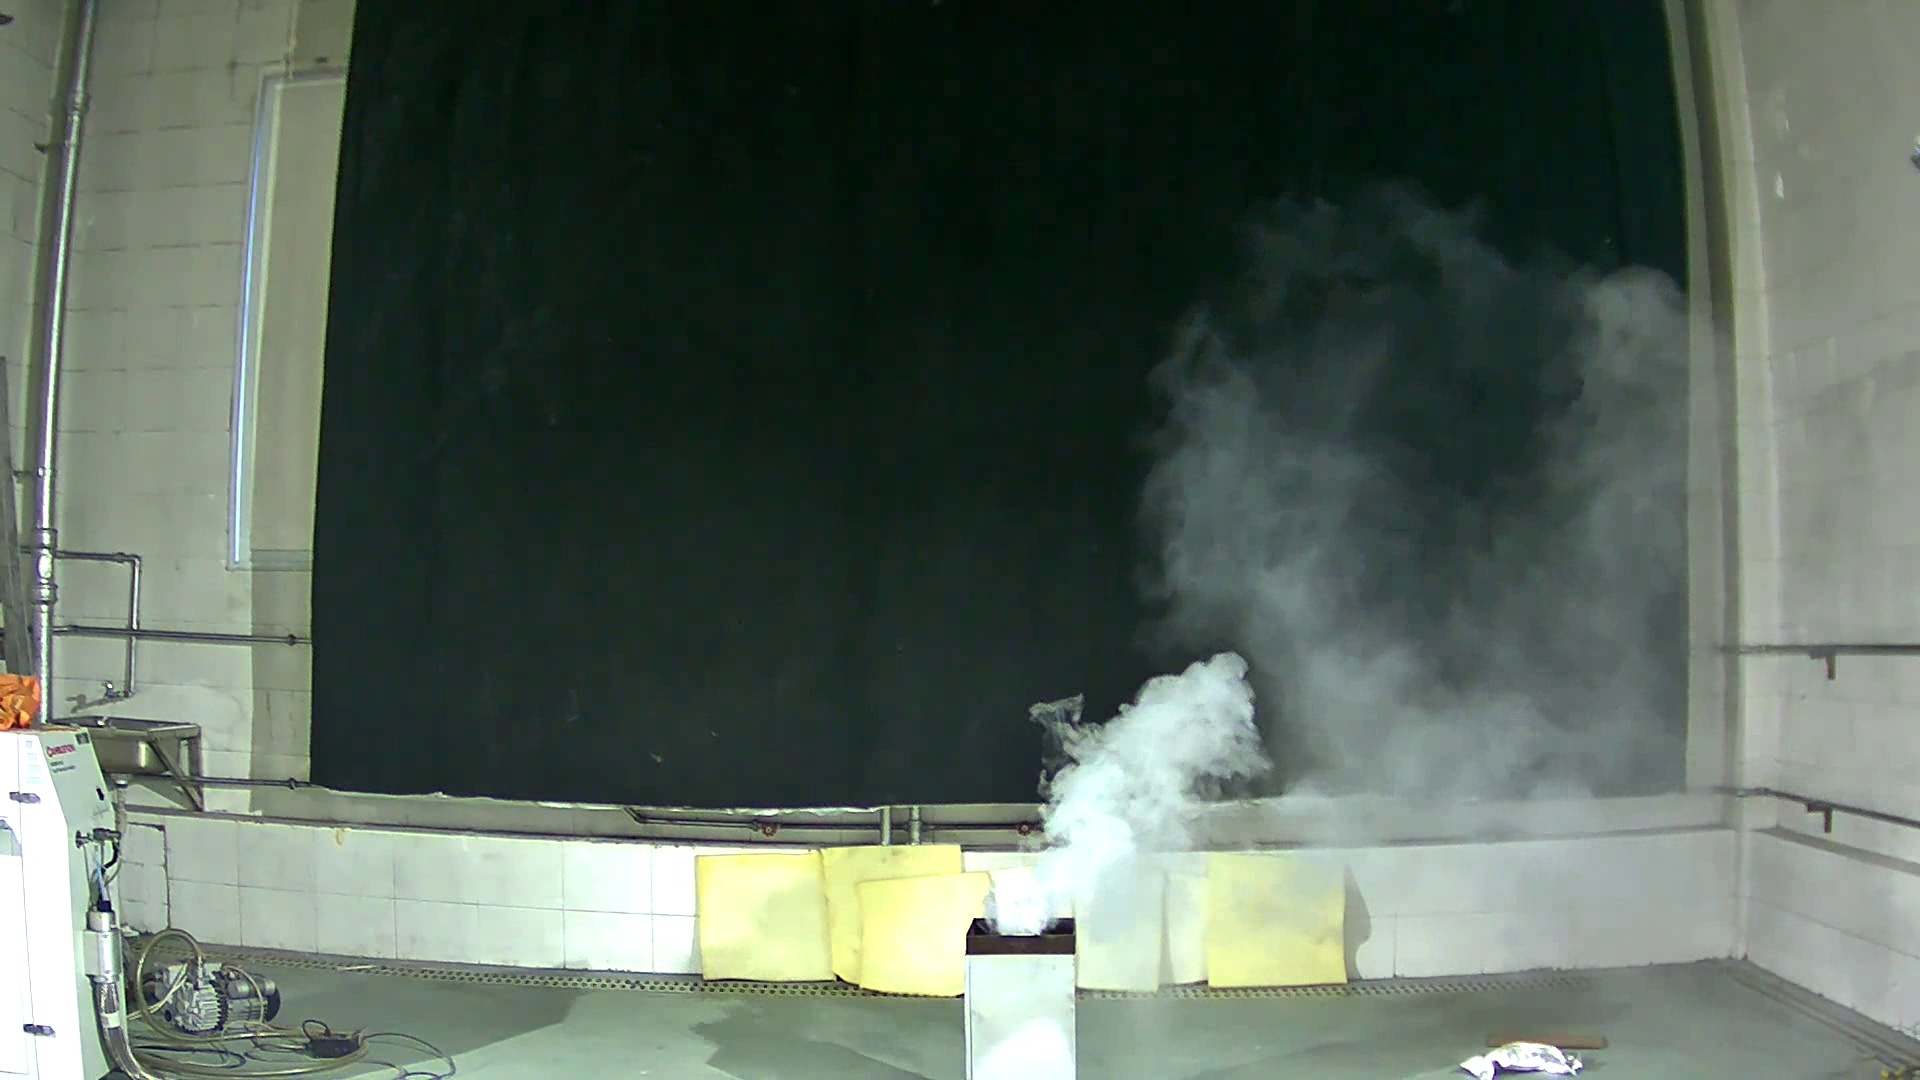smoke: (1273, 324, 1687, 793), (934, 618, 1269, 938)
